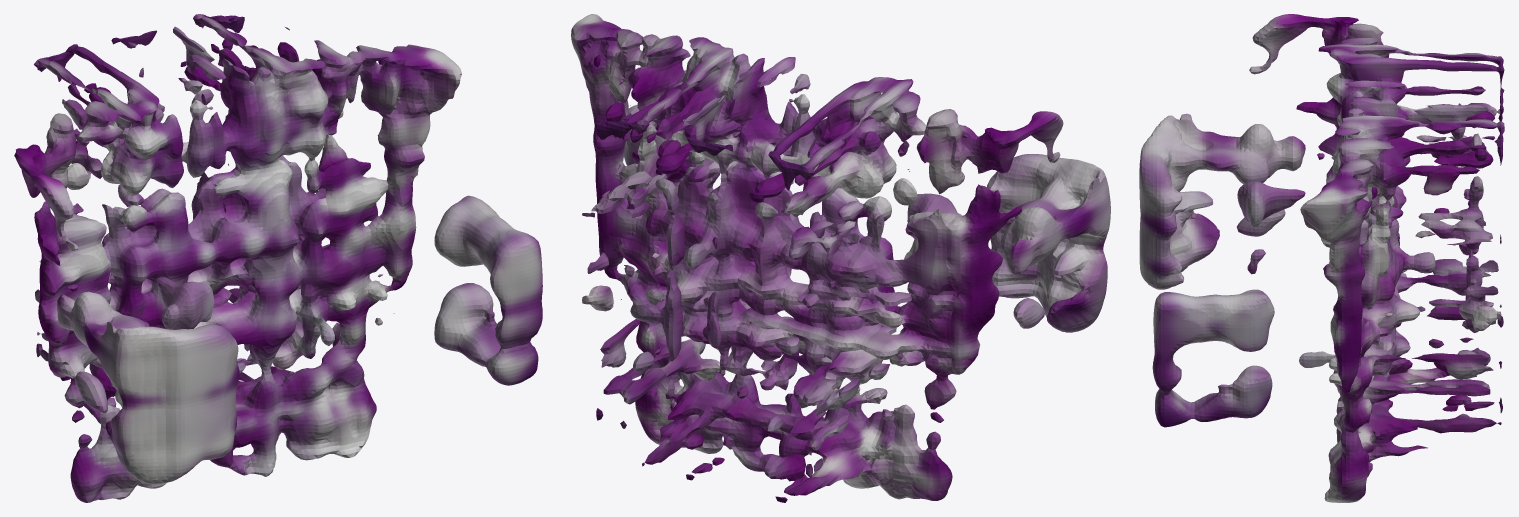
The model's file is a_purple_chair.glb.
The picture shows the model from 3 angles, left to right: view 1: azimuth 30°, elevation 25°; view 2: azimuth 150°, elevation 25°; view 3: azimuth 270°, elevation 25°; orthographic projection. The views are drawn at different scales.
Parts seen in each view (by area): view 1: a_purple_chair.obj; view 2: a_purple_chair.obj; view 3: a_purple_chair.obj.
Part boxes in pixels (<box>): a_purple_chair.obj: <box>14,14,542,502</box>; a_purple_chair.obj: <box>571,14,1110,502</box>; a_purple_chair.obj: <box>1139,14,1504,502</box>.
Size of the model in its own units: 1.87 by 1.67 by 1.5.
